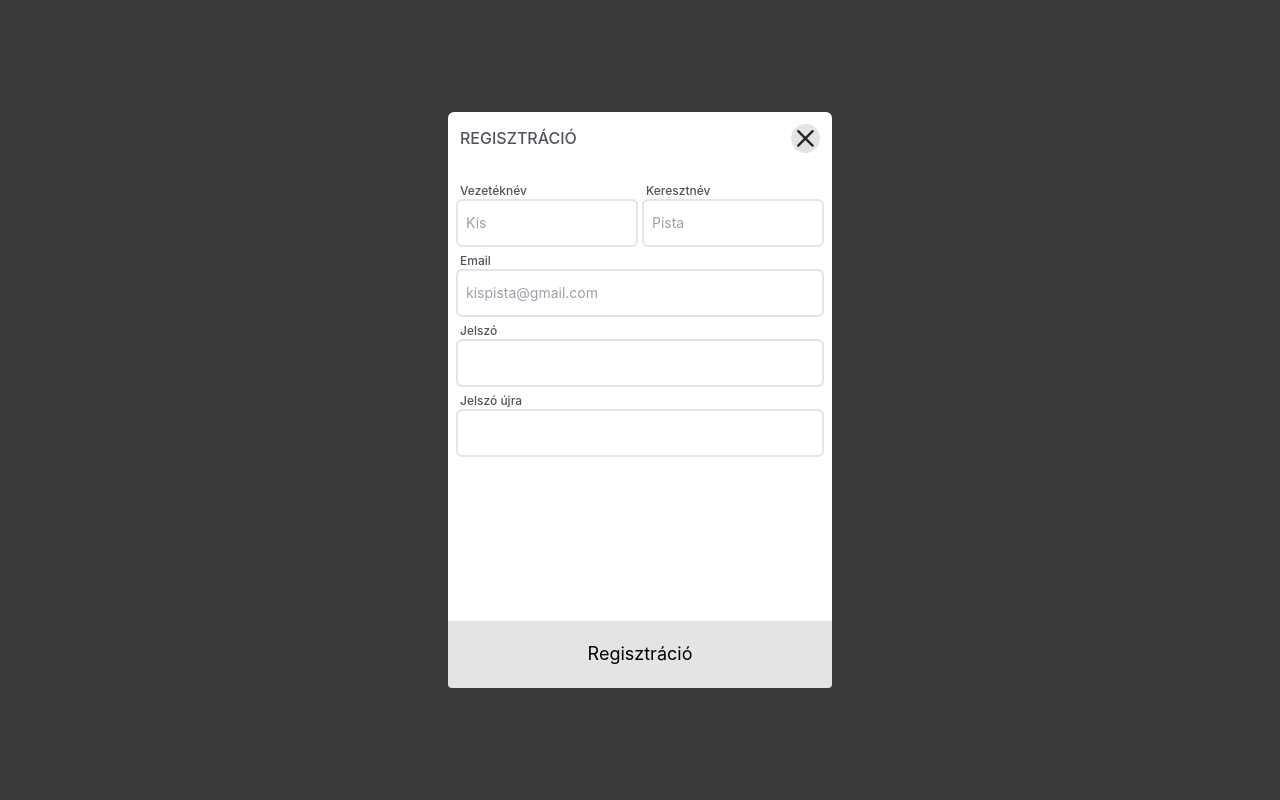
it: Register component › should display network/repository error when form sending errors out
Step 1. Type "Test" into the field with id "last-name" → (547, 223), box [458,201,636,245]
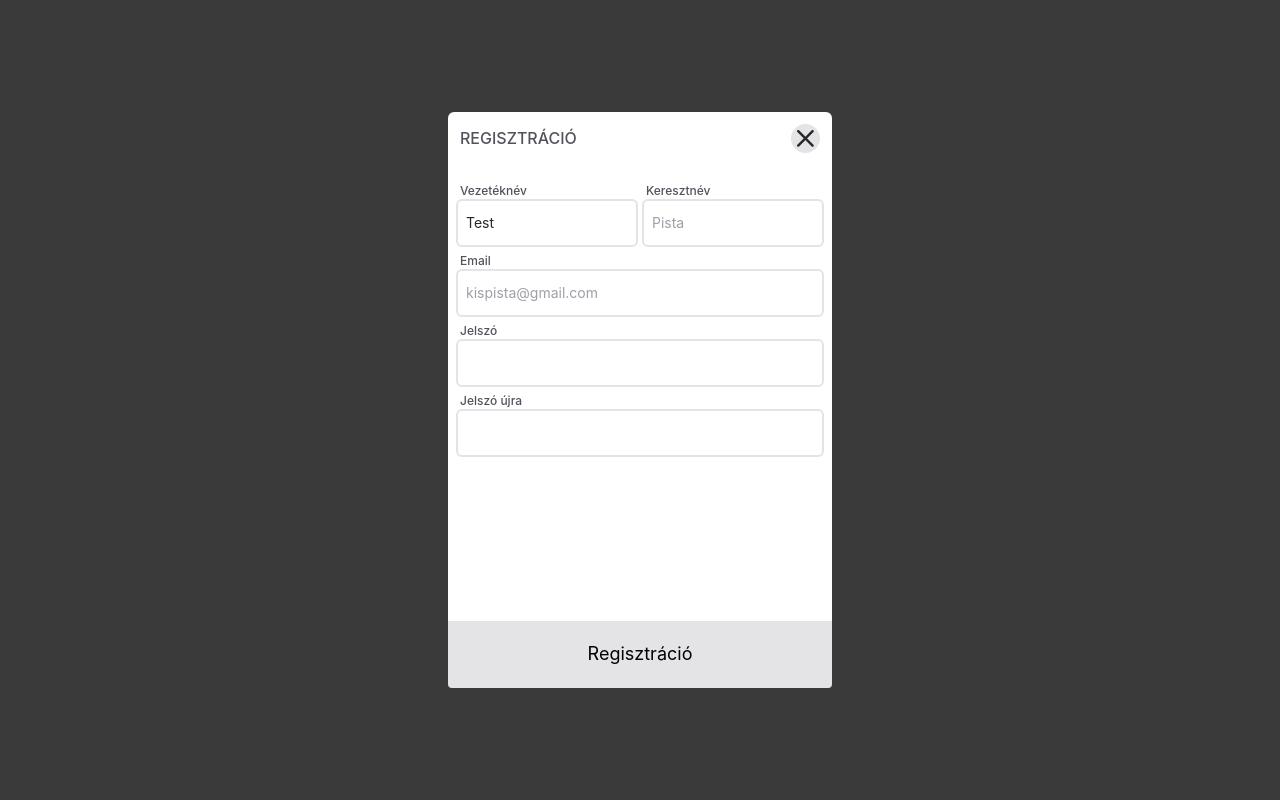
Step 2. Type "Elek" into the field with id "first-name" → (733, 223), box [644,201,822,245]
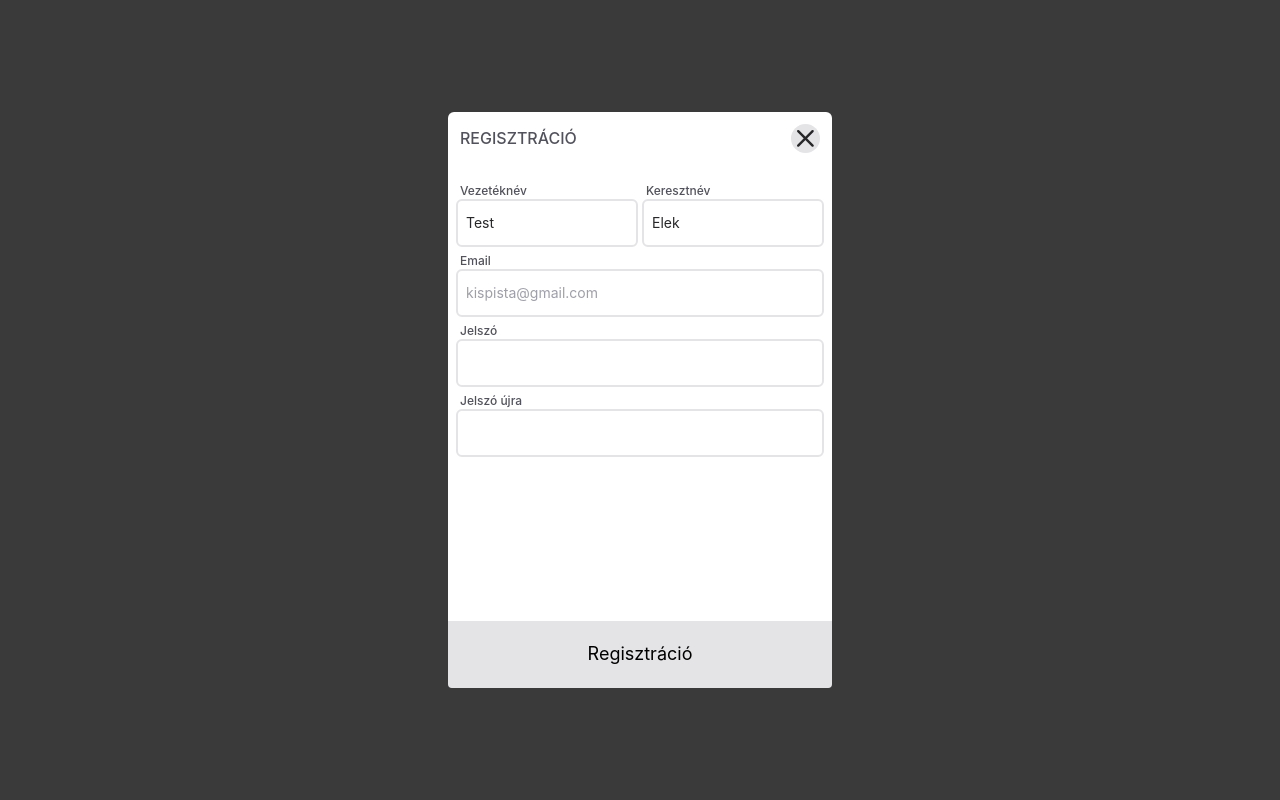
Step 3. Type "tesztelek@gmail.com" into the field with id "email" → (640, 293), box [458,271,822,315]
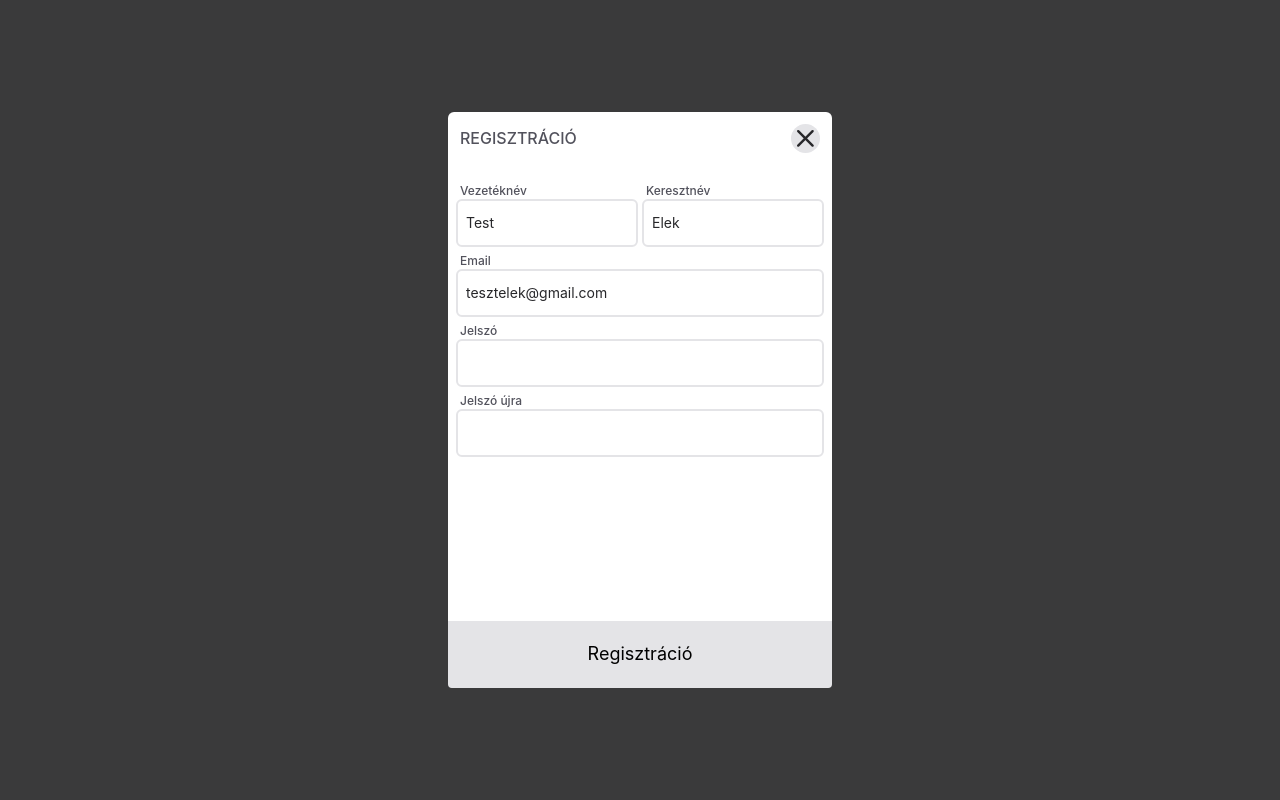
Step 4. Type "password123" into the 1st password field → (640, 363), box [458,341,822,385]
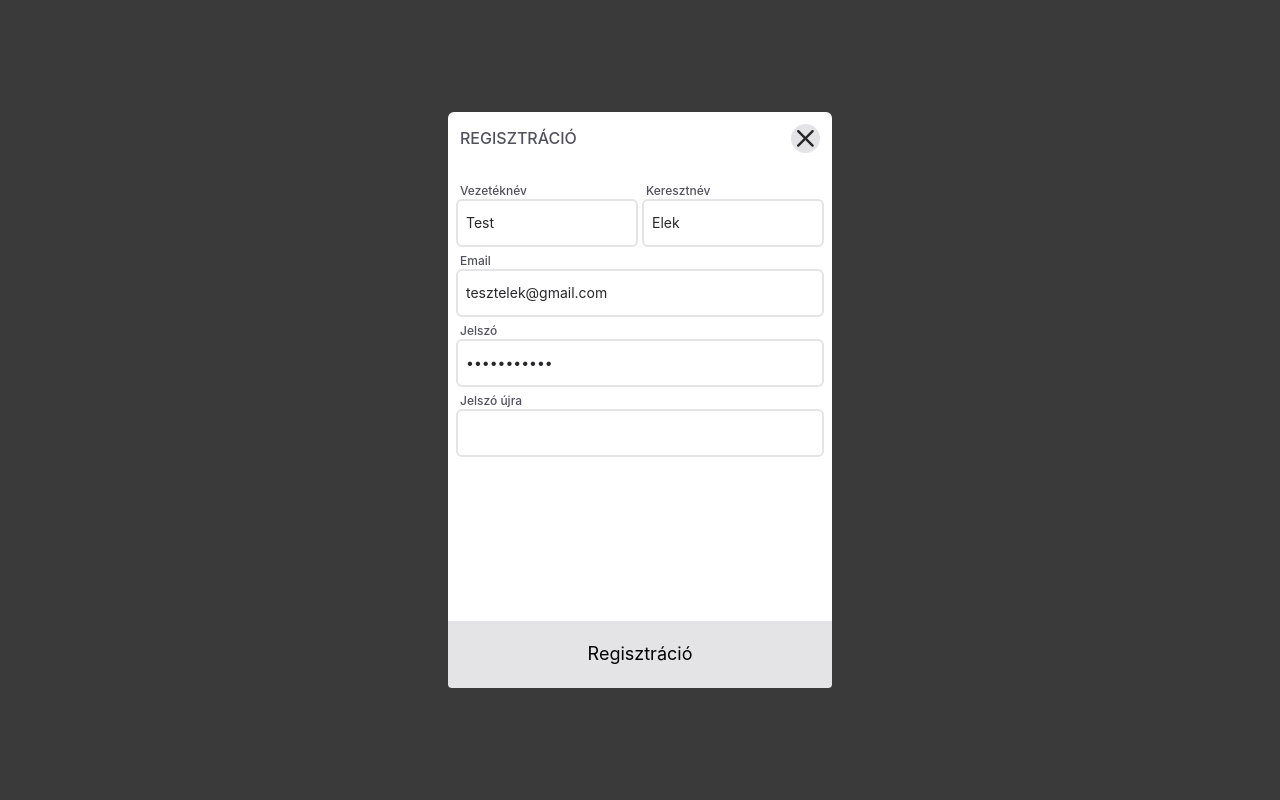
Step 5. Type "password123" into the 2nd password field → (640, 433), box [458,411,822,455]
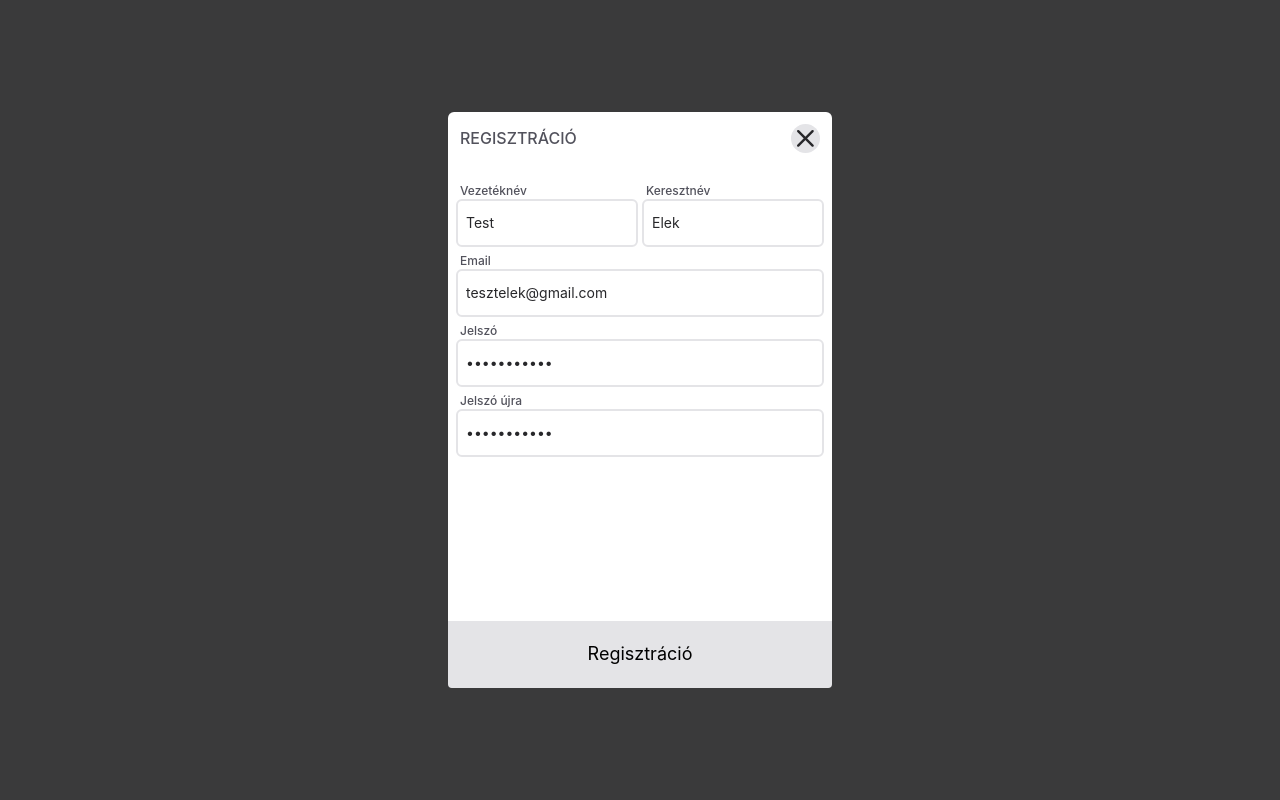
Step 6. Click the button with id "submit" → (640, 654), box [448,621,832,688]
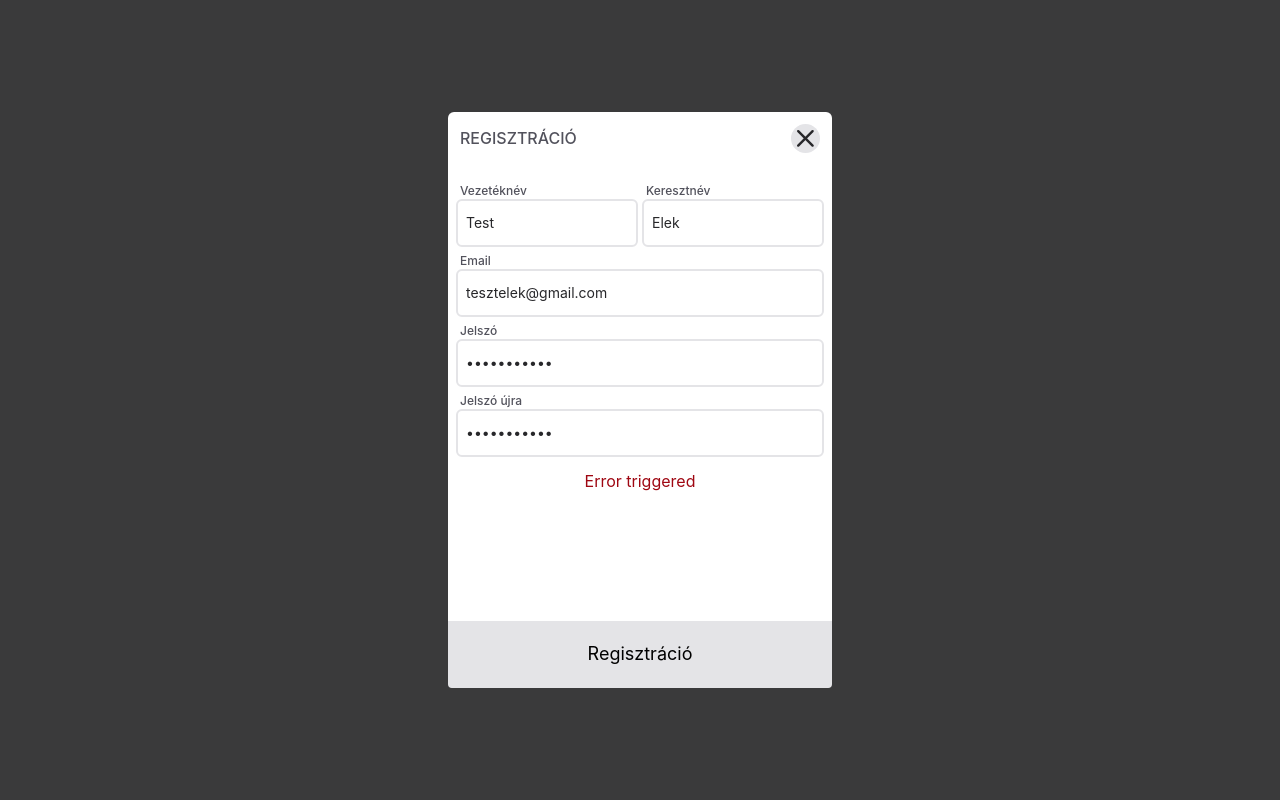
expect the text "Error triggered" is shown: met, box [584,471,695,491]
